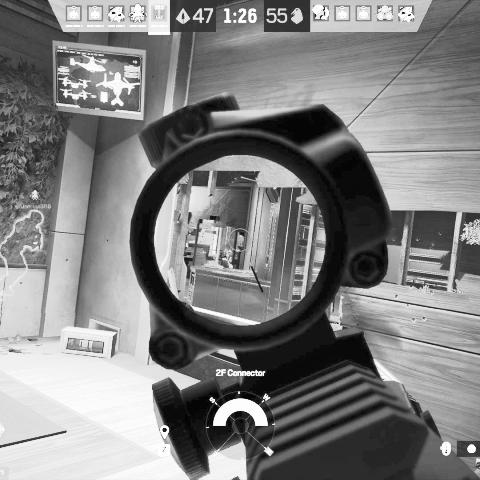Character: (222, 248, 235, 267)
Friend_label: (19, 189, 54, 210)
